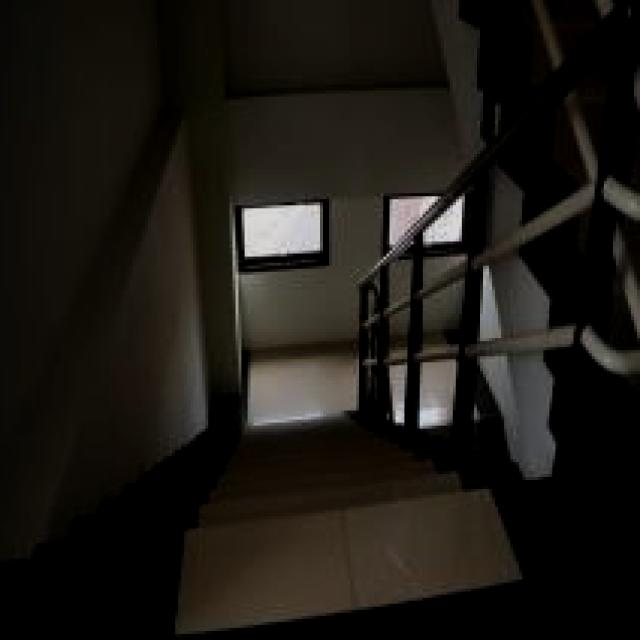downstair: (149, 402, 505, 640)
